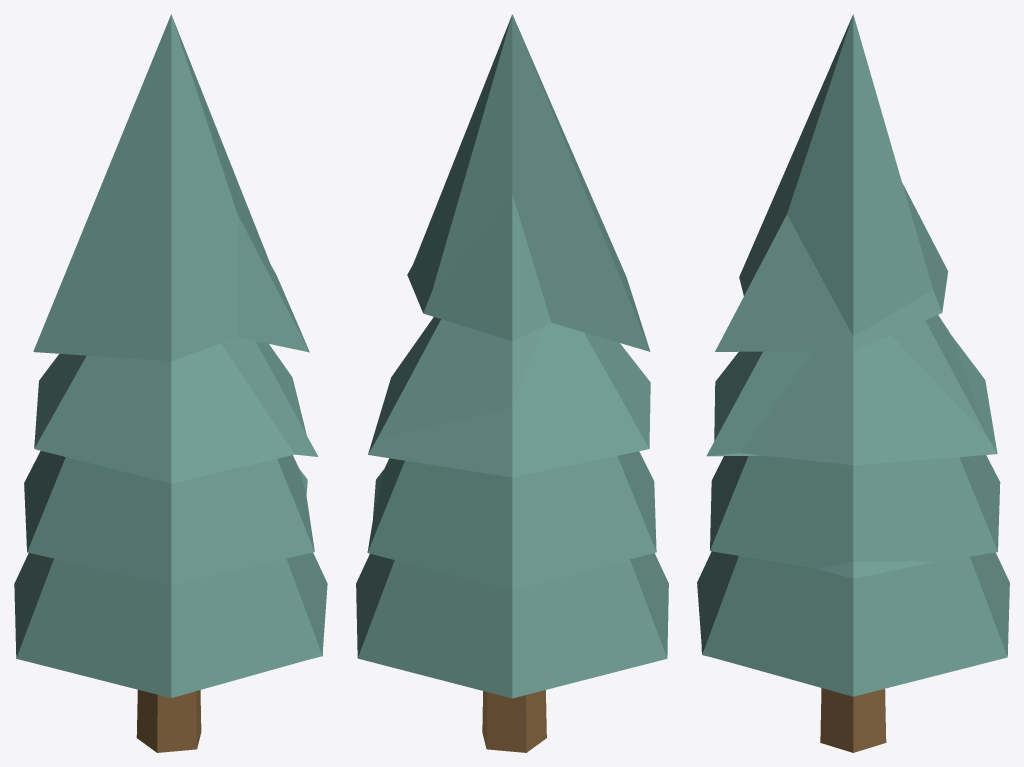
File: Pine_006.fbx
The picture shows the model from 3 angles, left to right: view 1: azimuth 30°, elevation 25°; view 2: azimuth 150°, elevation 25°; view 3: azimuth 270°, elevation 25°; orthographic projection.
Visible parts, largest first — view 1: Pine.006; view 2: Pine.006; view 3: Pine.006.
Part boxes in pixels (x1,y1,x2,y2): Pine.006: (14, 14, 327, 752); Pine.006: (356, 14, 668, 752); Pine.006: (697, 14, 1009, 752).
Bounding box in the file's own units: 3.93 × 8.74 × 3.42.
